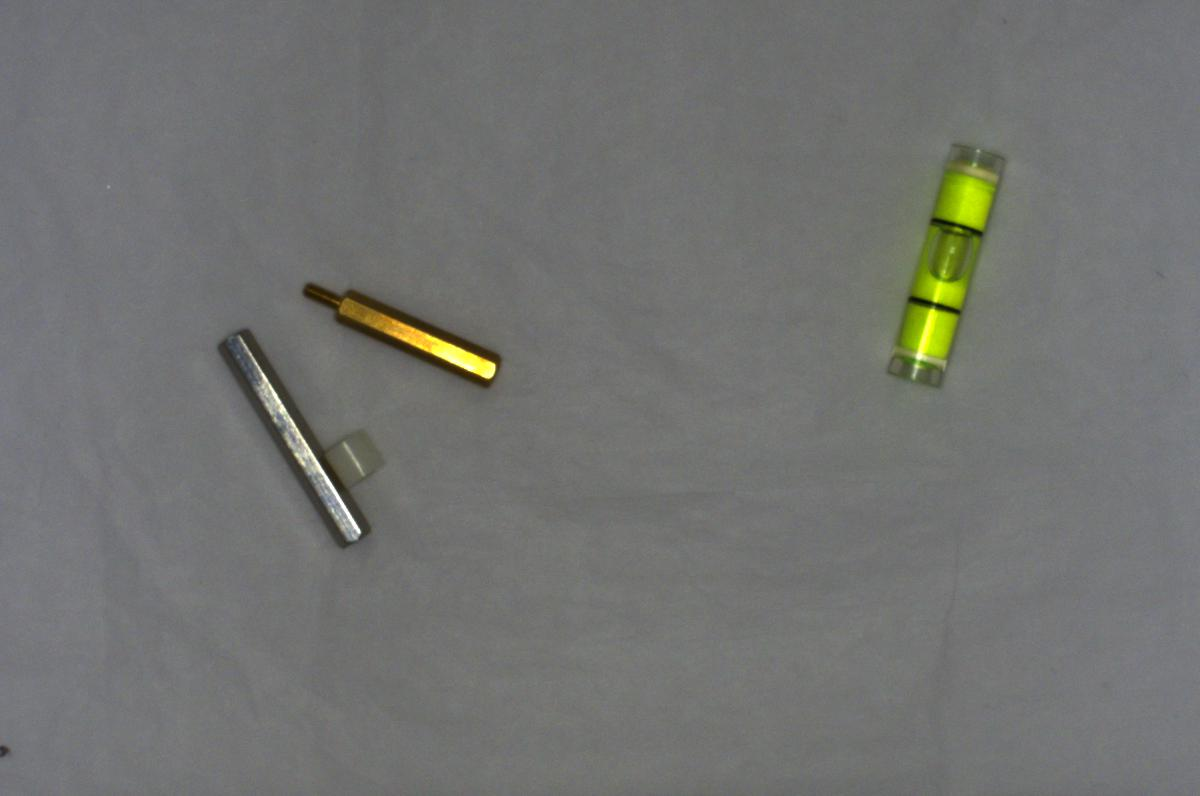Double hexagonal column: (210, 325, 368, 553)
Hexagon pillar: (294, 278, 505, 388)
Horizontal bubble: (870, 138, 1006, 393)
Plastic cushion pillar: (319, 426, 385, 493)
